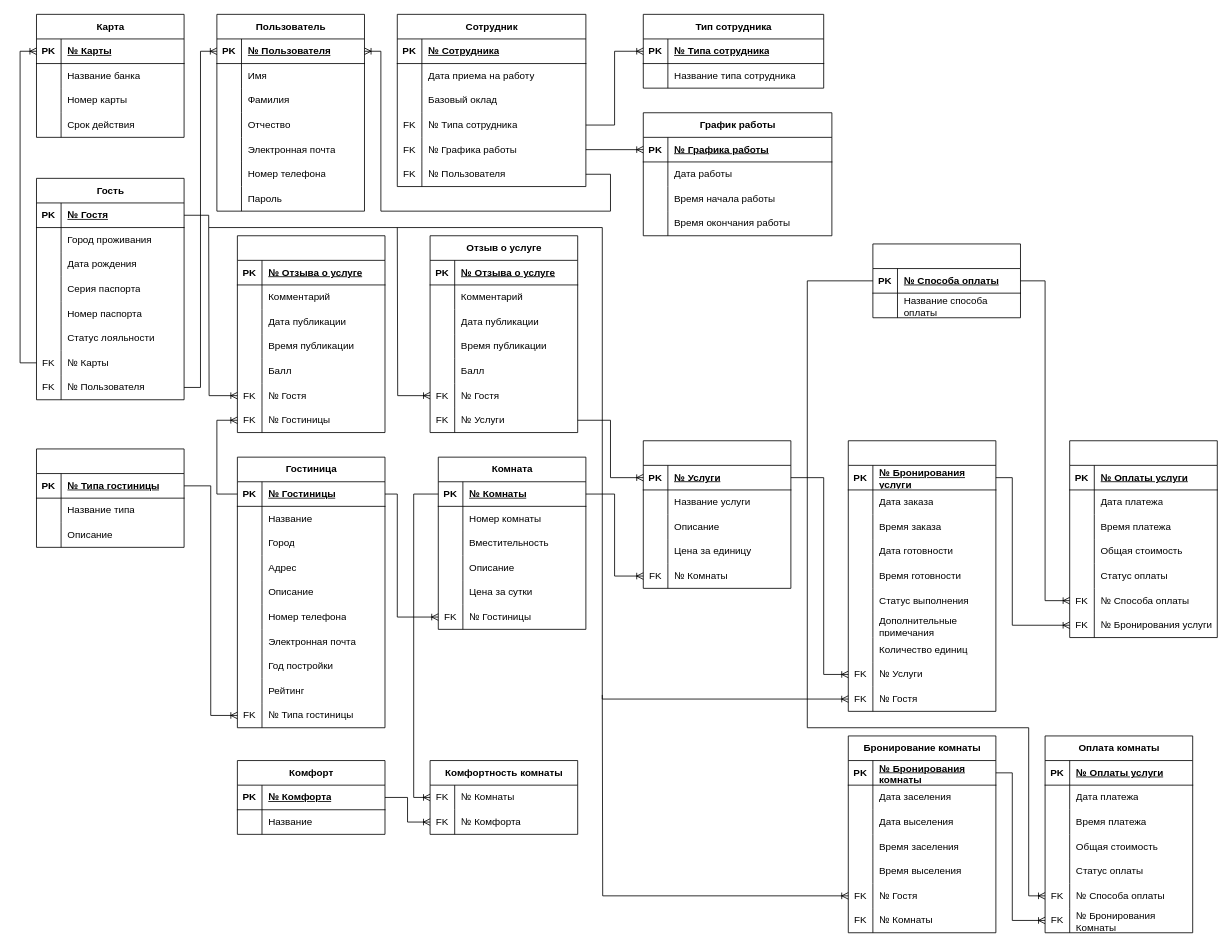
Some shapes in this 1232 by 947 pixel diagram are drawn without their labels. Each missing label, with the box of its shape:
Бронирование услуги: (847, 440, 996, 711)
Оплата услуги: (1069, 440, 1217, 638)
Отзыв о гостинице: (237, 235, 385, 433)
Способ оплаты: (872, 243, 1020, 318)
Тип гостиницы: (36, 448, 184, 547)
Услуга: (642, 440, 791, 588)
